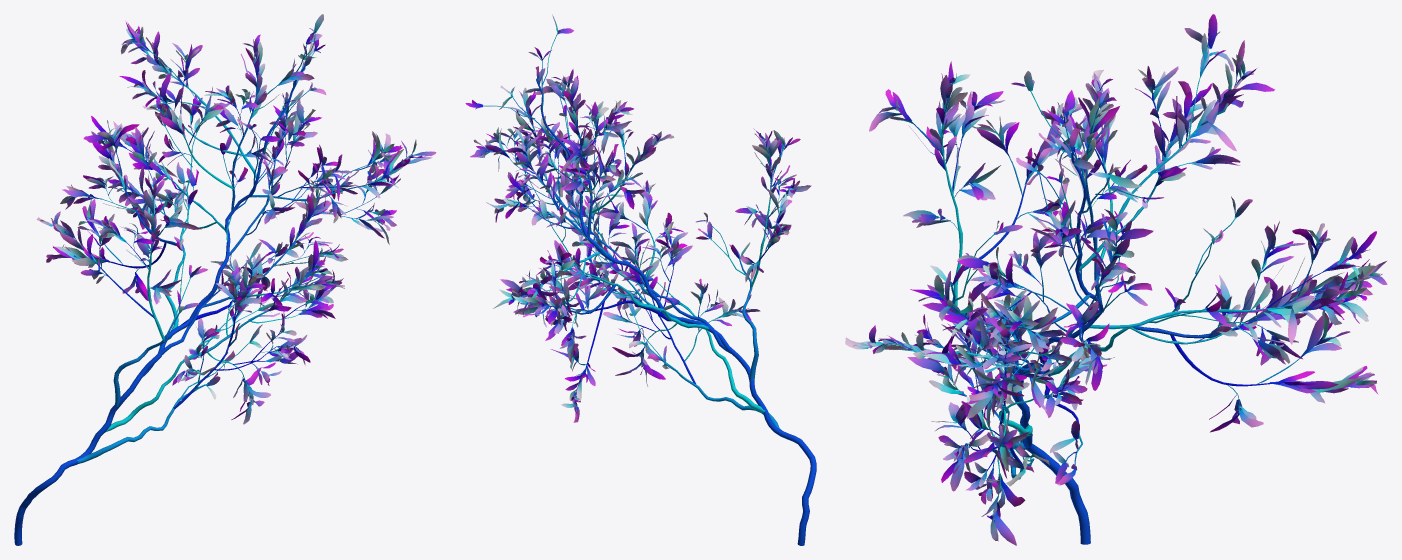
File: Downy_Willow_wknlfiuqx_Mid_wknlfiuqx_VarH_LOD0.fbx
3 renders of one model, left to right at view 1: azimuth 30°, elevation 25°; view 2: azimuth 150°, elevation 25°; view 3: azimuth 270°, elevation 25°, orthographic. The views are drawn at different scales.
Visible parts, largest first — view 1: _vf61_VarH_LOD1; view 2: _vf61_VarH_LOD1; view 3: _vf61_VarH_LOD1.
Boxes of the visible parts, box(x1,y1,x2,y2) form: _vf61_VarH_LOD1: box(14, 14, 436, 545); _vf61_VarH_LOD1: box(465, 14, 816, 545); _vf61_VarH_LOD1: box(845, 14, 1387, 545).
Bounding box in the file's own units: 169 × 209 × 155.
